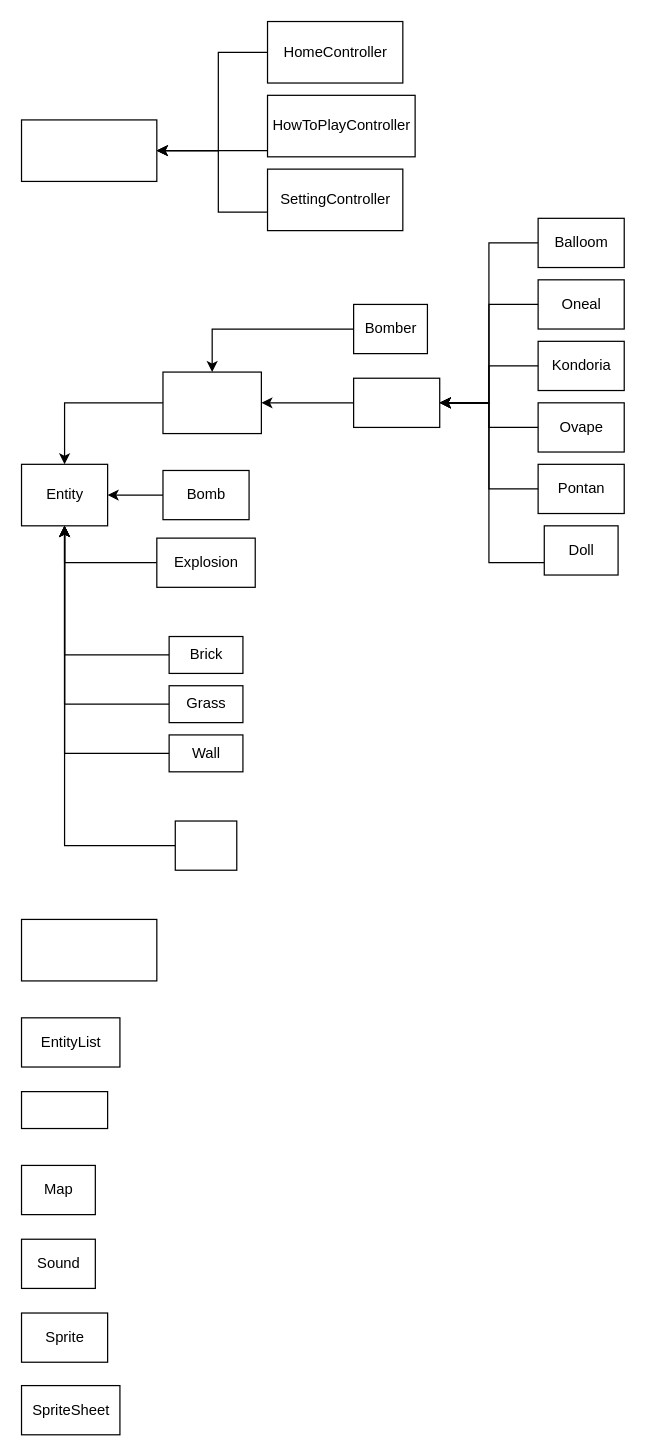
The diagram is 646 pixels wide and 1456 high, and some of its shapes have lost their labels. The shapes that lost their labels are listed below. From the top down, each one's centre as x and y in pixels, then its label:
At (x=88, y=150): "CommonController".
At (x=211, y=402): "Movable".
At (x=396, y=402): "Enemy".
At (x=205, y=845): "Item".
At (x=88, y=949): "BombermanGame".
At (x=64, y=1109): "Home".
